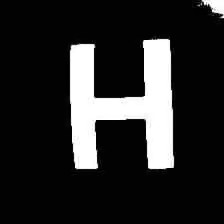LTR_H: (54, 23, 194, 189)
